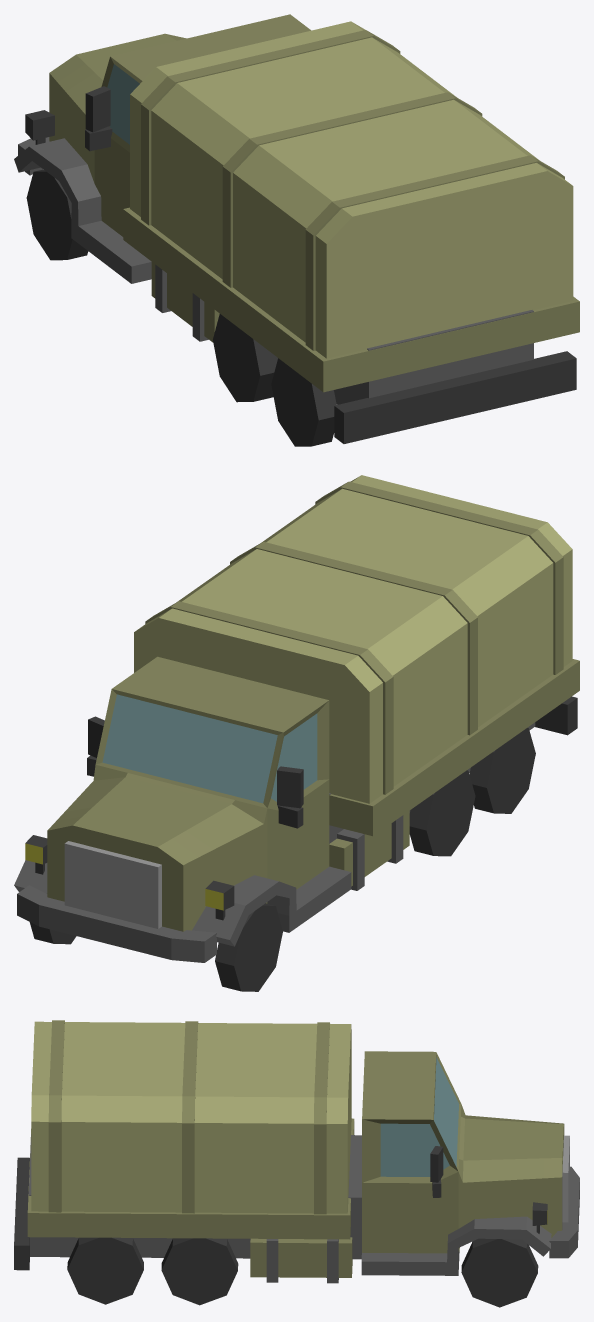
Rendered from cube.004_lev3.glb.
3 views of the same model, one above another, from view 1: azimuth 30°, elevation 25°; view 2: azimuth 150°, elevation 25°; view 3: azimuth 270°, elevation 25° (orthographic). The views are drawn at different scales.
Visible parts, largest first — view 1: cube.004_lev3; view 2: cube.004_lev3; view 3: cube.004_lev3.
Part boxes in pixels (x1=…): cube.004_lev3: x1=14, y1=14, x2=579, y2=446; cube.004_lev3: x1=14, y1=475, x2=579, y2=991; cube.004_lev3: x1=14, y1=1020, x2=579, y2=1307.
Bounding box in the file's own units: 3.81 × 3.68 × 9.17.
